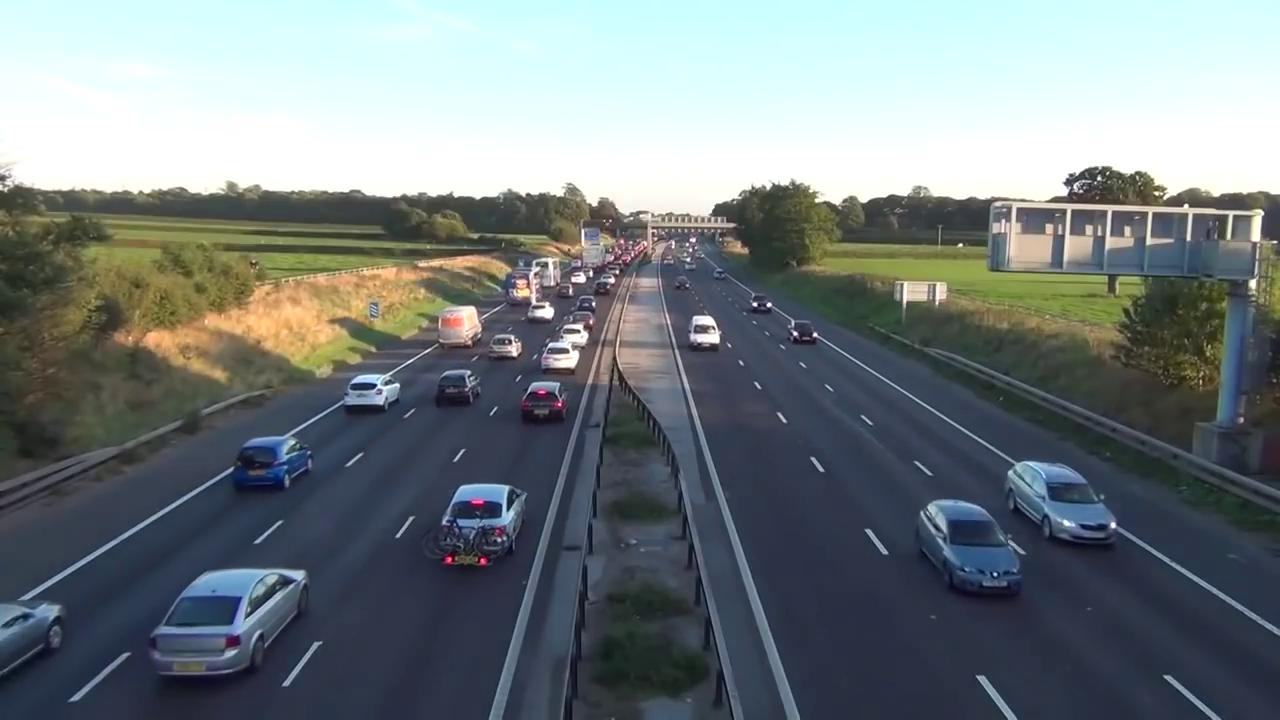bus: (437, 307, 481, 350)
car: (141, 565, 310, 678), (916, 497, 1029, 596), (1005, 458, 1115, 546), (441, 481, 528, 564), (233, 433, 314, 491), (347, 374, 402, 411), (522, 383, 566, 422), (436, 370, 478, 407), (685, 316, 719, 349), (541, 341, 578, 370), (486, 333, 519, 359), (790, 322, 817, 343), (748, 293, 773, 312), (529, 305, 554, 322)
